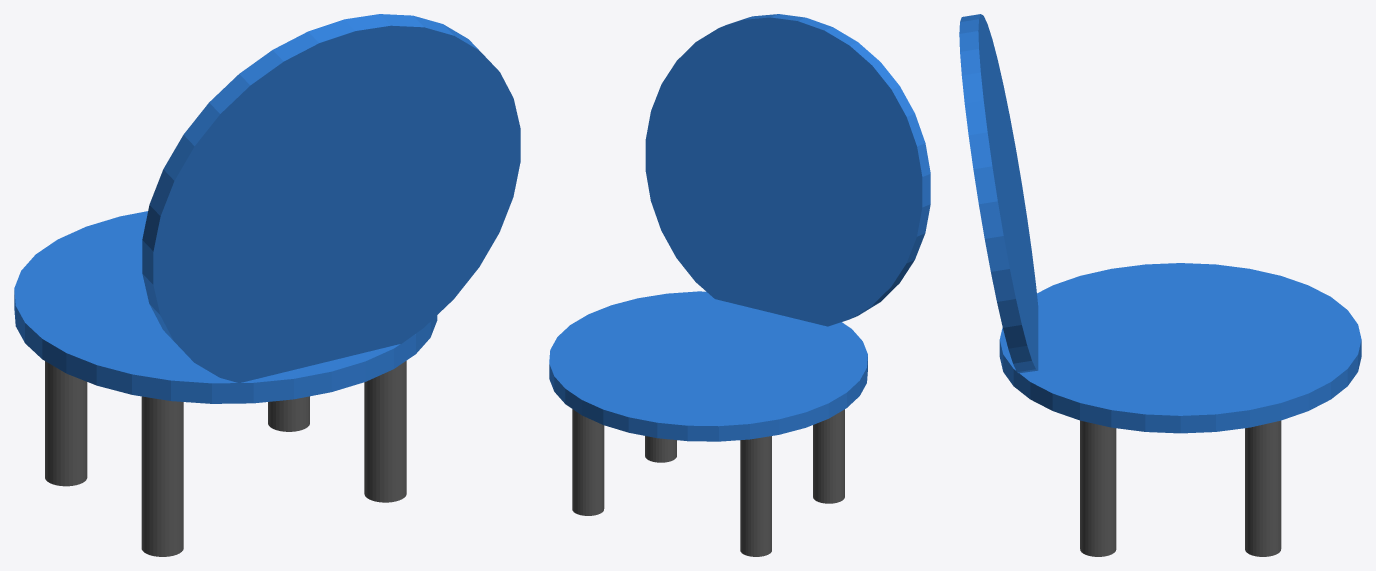
Rendered from chair.fbx.
The picture shows the model from 3 angles, left to right: view 1: azimuth 30°, elevation 25°; view 2: azimuth 150°, elevation 25°; view 3: azimuth 270°, elevation 25°; orthographic projection. The views are drawn at different scales.
Visible parts, largest first — view 1: chair; view 2: chair; view 3: chair.
Part boxes in pixels (x1,y1,x2,y2): chair: [14, 14, 520, 556]; chair: [549, 14, 930, 556]; chair: [959, 14, 1361, 556].
Bounding box in the file's own units: 150 × 216 × 167.
